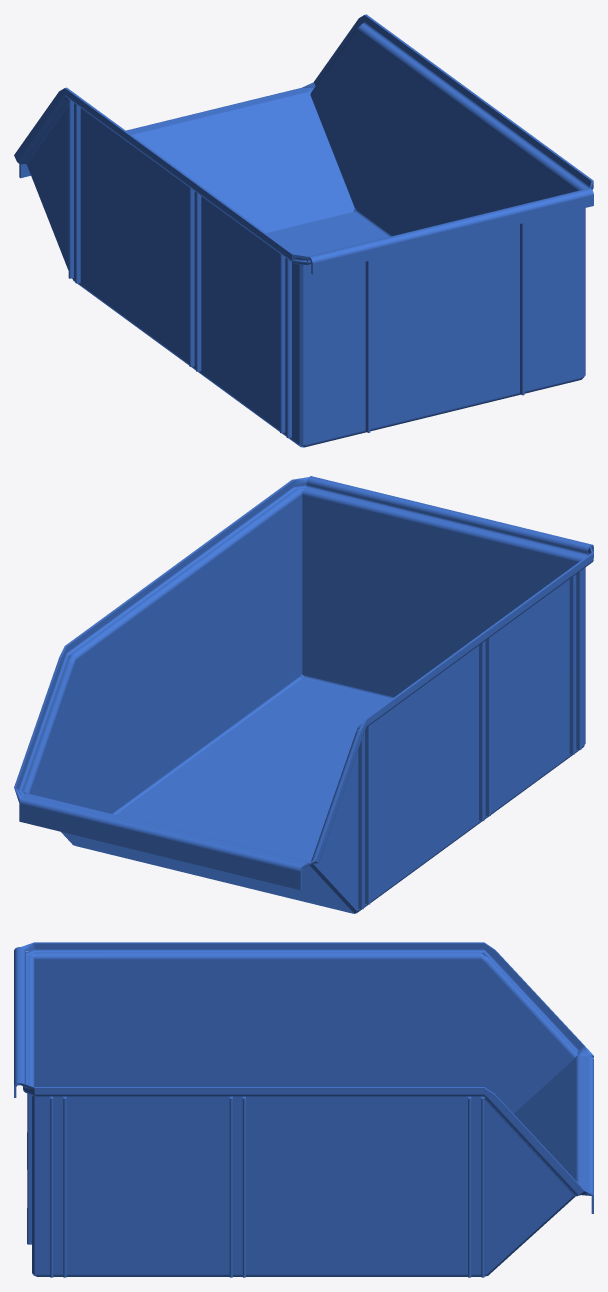
File: BacExtraLarge.fbx
The picture shows the model from 3 angles, top to bottom: view 1: azimuth 30°, elevation 25°; view 2: azimuth 150°, elevation 25°; view 3: azimuth 270°, elevation 25°; orthographic projection.
Visible parts, largest first — view 1: BacLarge; view 2: BacLarge; view 3: BacLarge.
Boxes of the visible parts, <box> form: BacLarge: <box>14,14,593,447</box>; BacLarge: <box>14,476,593,913</box>; BacLarge: <box>14,942,593,1277</box>.
Size of the model in its own units: 20.95 by 13.05 by 35.24.
